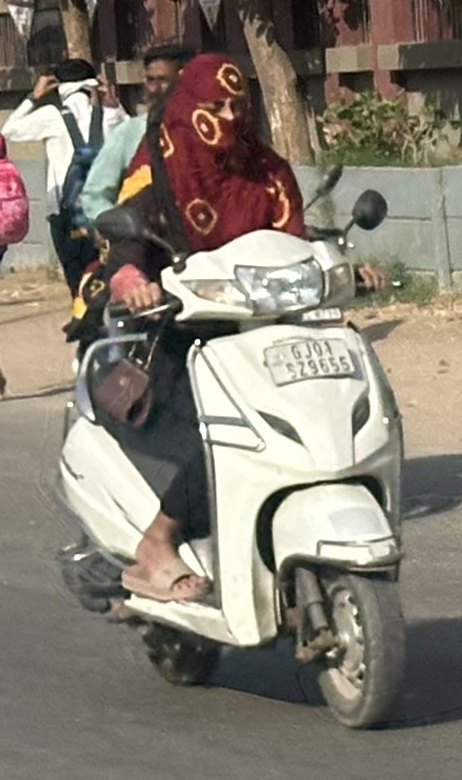BikeWithRider: (33, 43, 426, 738)
NoHelmet: (159, 45, 271, 158)
